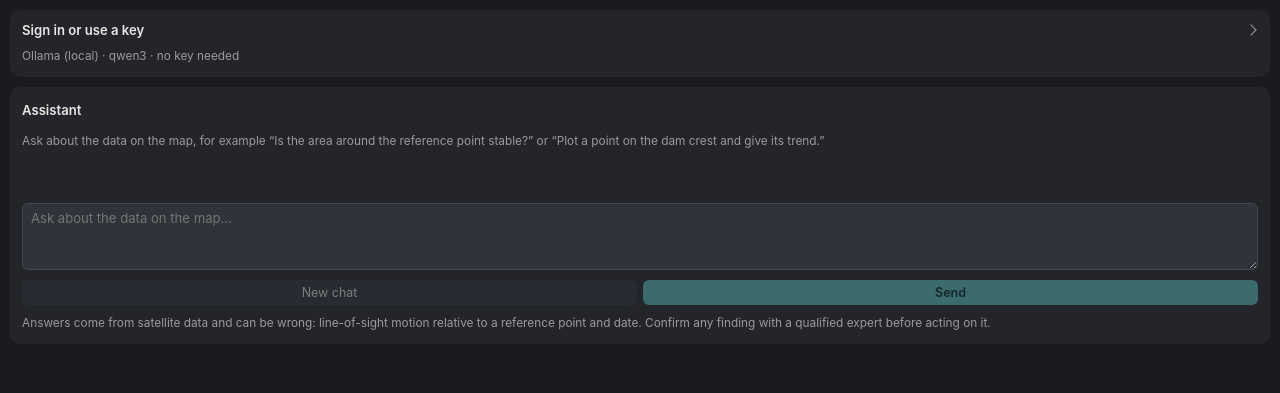
Test: AssistantTab › runs the reference date and layer page actions
Step 1. Type "Use July 2020 as the reference date" into the text box named "Question" → (640, 237), box [22, 203, 1258, 270]
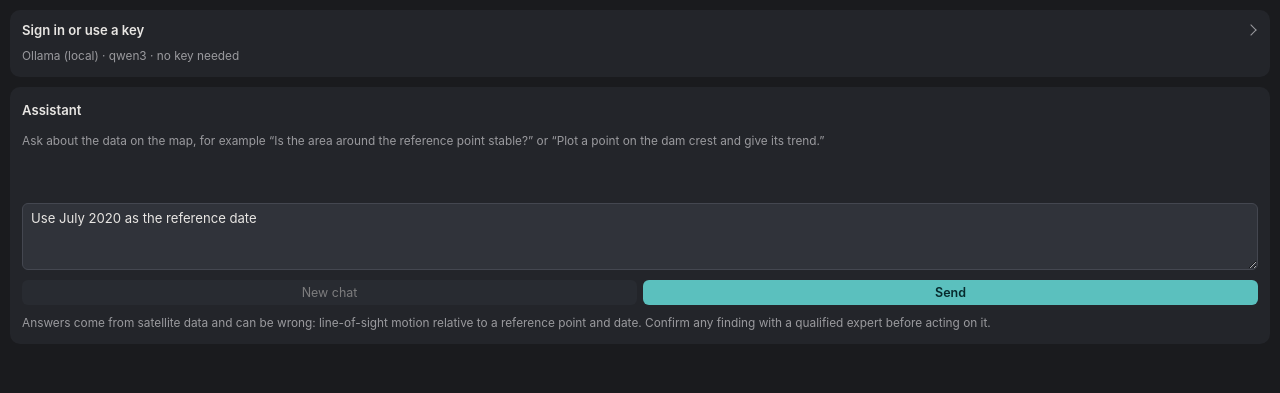
Step 2. Click the button "Send" → click(950, 293), box [643, 280, 1258, 305]
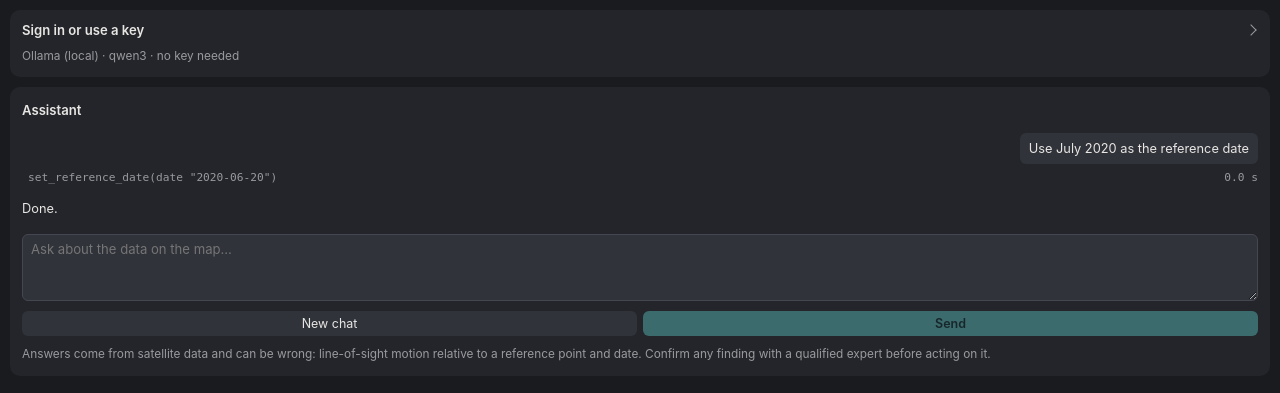
Result: the text "Done." is shown at [22, 201, 58, 216]
